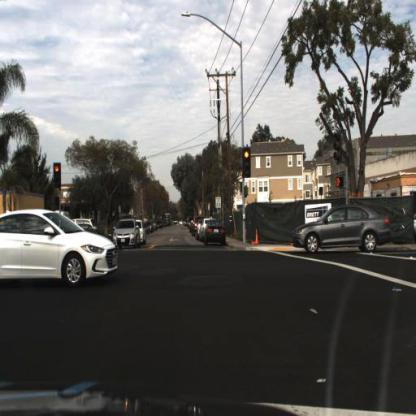car: (2, 206, 120, 286), (291, 201, 392, 256), (206, 219, 228, 246)
trafficLight: (241, 145, 253, 178)
trafficLight-Red: (51, 164, 63, 194), (335, 175, 346, 192)
